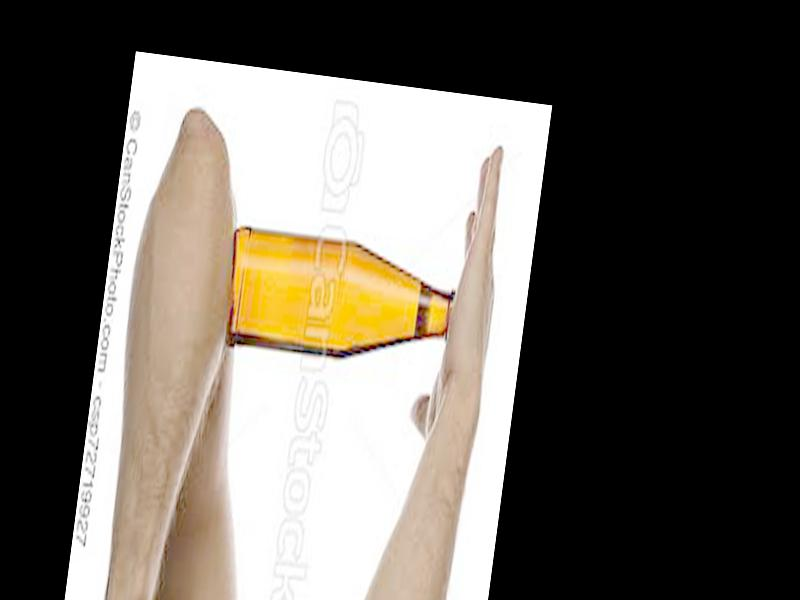Beer: (223, 222, 463, 379)
